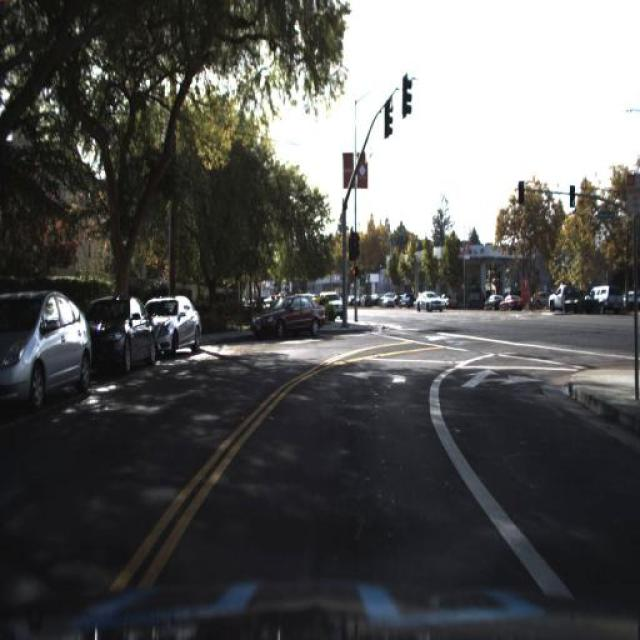car: (0, 280, 95, 420), (91, 293, 157, 379), (243, 286, 331, 342), (152, 286, 206, 358), (535, 282, 589, 318), (582, 280, 628, 315), (410, 285, 450, 321), (588, 284, 622, 308), (495, 289, 521, 316), (322, 290, 346, 318), (485, 289, 506, 316)
